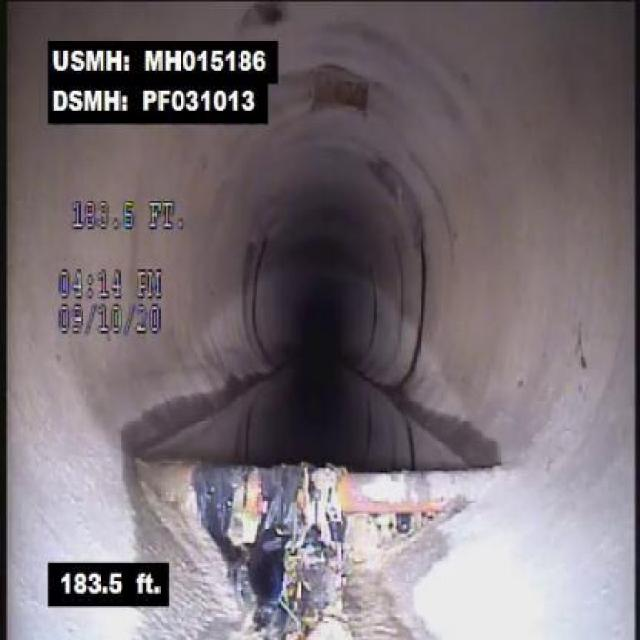Crack: (566, 299, 617, 406)
Utility intrusion: (114, 463, 518, 520)
